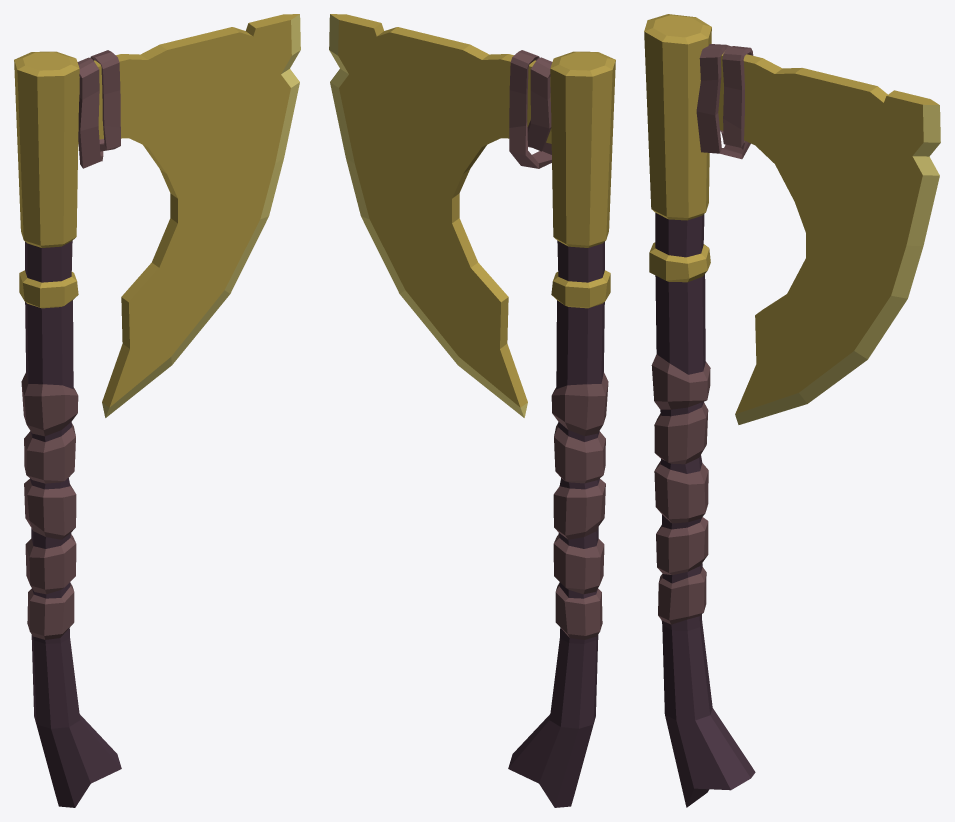
The model's file is gold_axe.glb.
3 views of the same model, side by side, from view 1: azimuth 30°, elevation 25°; view 2: azimuth 150°, elevation 25°; view 3: azimuth 330°, elevation 25° (orthographic). The views are drawn at different scales.
Visible parts, largest first — view 1: Weapon; view 2: Weapon; view 3: Weapon.
Part boxes in pixels (x1,y1,x2,y2): Weapon: (14, 14, 300, 807); Weapon: (329, 14, 615, 807); Weapon: (644, 14, 940, 807).
Size of the model in its own units: 0.297 by 0.75 by 0.0593.
